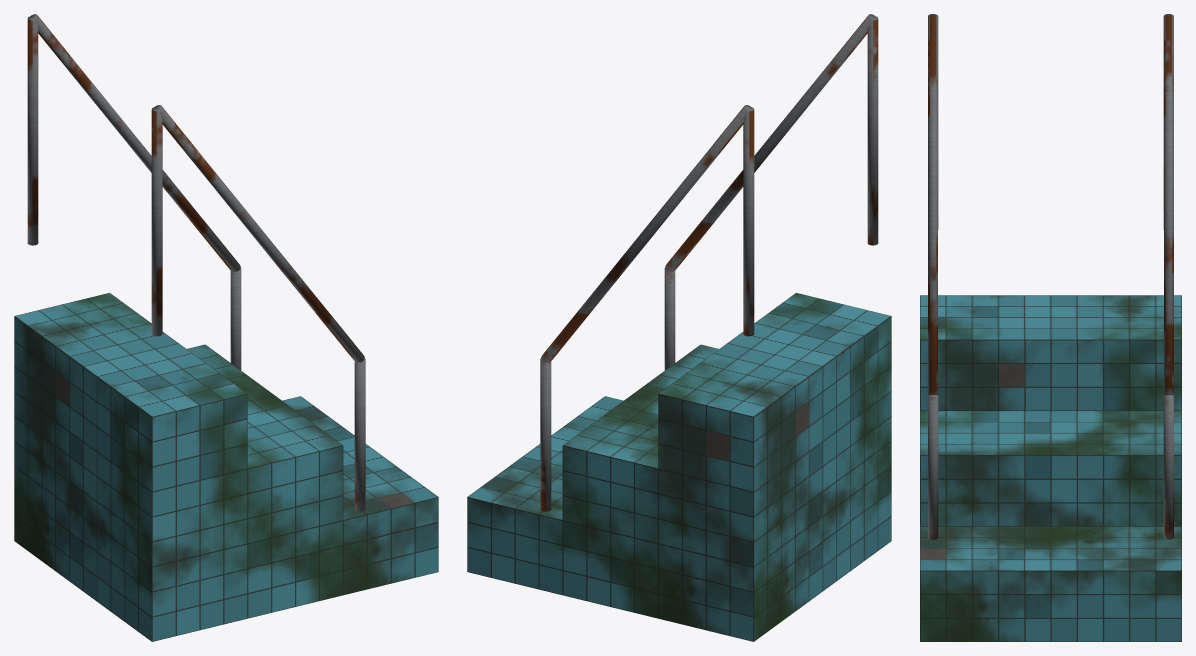
Rendered from SM_PoolStairs.fbx.
3 views of the same model, side by side, from view 1: azimuth 30°, elevation 25°; view 2: azimuth 150°, elevation 25°; view 3: azimuth 270°, elevation 25° (orthographic). The views are drawn at different scales.
Parts seen in each view (by area): view 1: SM_PoolStairs; view 2: SM_PoolStairs; view 3: SM_PoolStairs.
Part boxes in pixels (left/top/right/bottom): SM_PoolStairs: left=14, top=14, right=438, bottom=641; SM_PoolStairs: left=467, top=14, right=891, bottom=641; SM_PoolStairs: left=920, top=14, right=1181, bottom=641.
Size of what is drawn, in the model's own units: 1.2 by 2.11 by 1.
2 materials, 2 textured.
